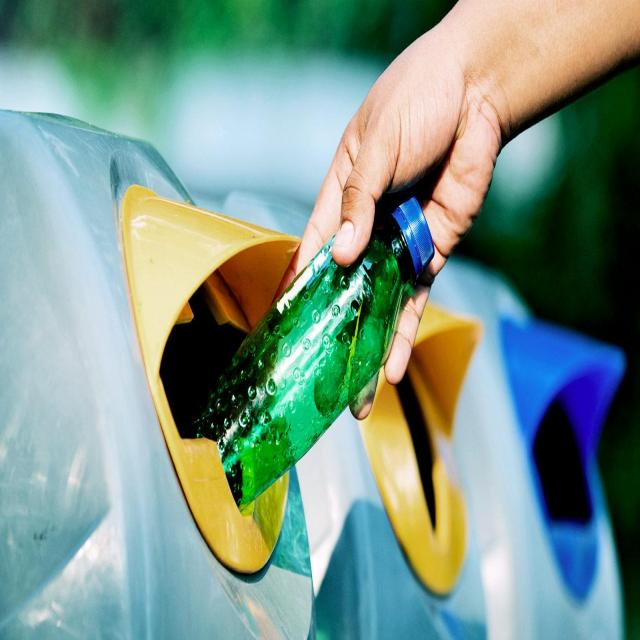plastic_bottle: (195, 186, 441, 518)
